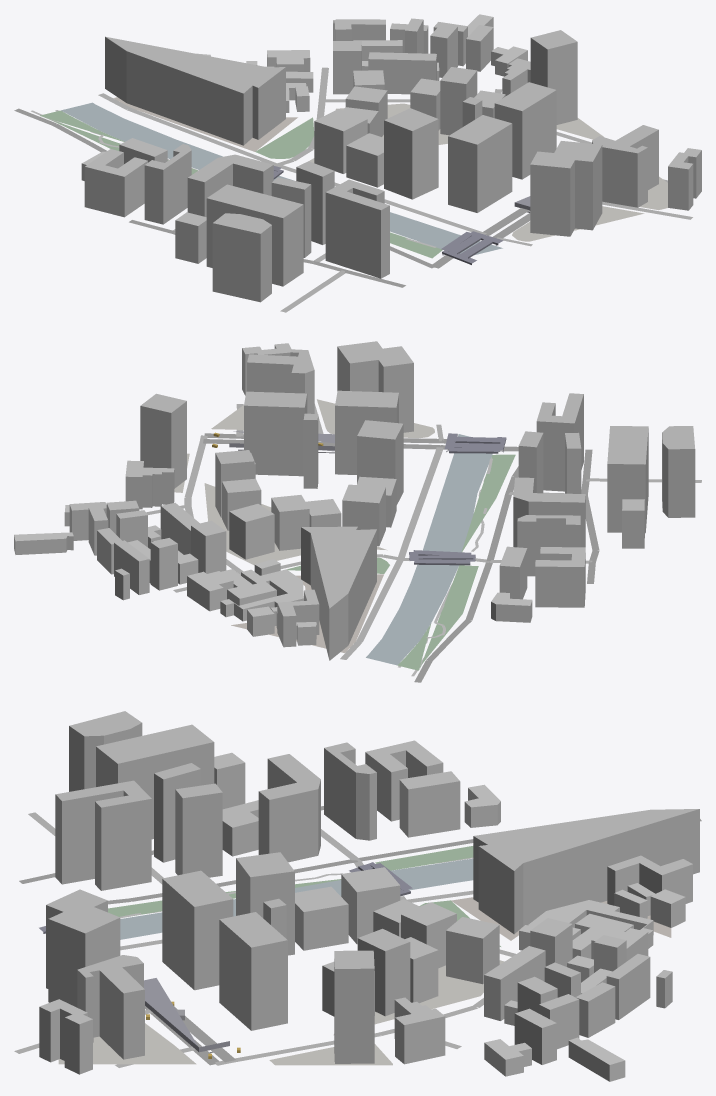
The picture shows the model from 3 angles, top to bottom: view 1: azimuth 30°, elevation 25°; view 2: azimuth 150°, elevation 25°; view 3: azimuth 270°, elevation 25°; orthographic projection. The views are drawn at different scales.
Bounding box in the file's own units: 560 × 92.22 × 561.
